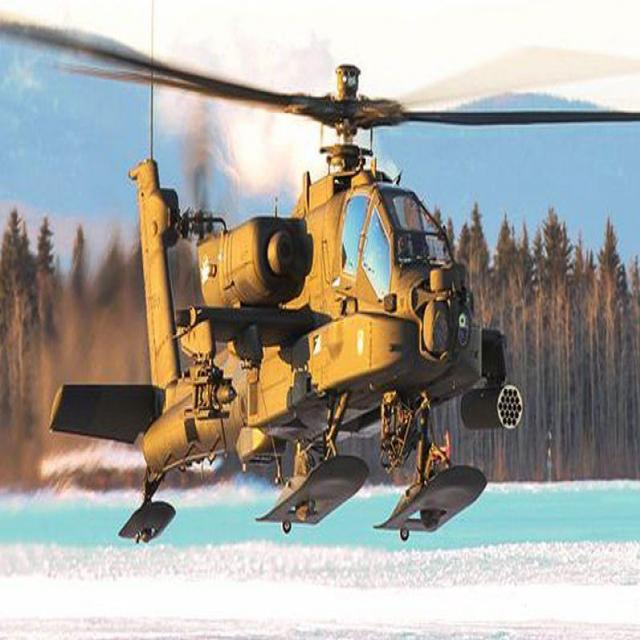MIL_HELO: (0, 14, 634, 553)
